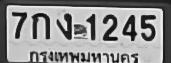1: (85, 12, 95, 40)
2: (102, 13, 117, 40)
4: (121, 14, 136, 40)
5: (140, 14, 155, 40)
7: (11, 11, 26, 38)
A01: (31, 12, 49, 39)
A07: (56, 12, 71, 39)
BKK: (26, 48, 141, 63)
